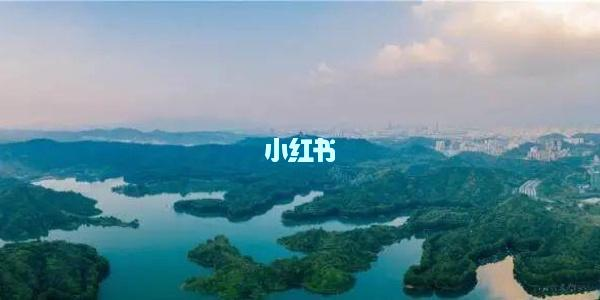mountain: (389, 160, 599, 282), (256, 144, 511, 222), (35, 135, 370, 183)
sea_river: (93, 223, 202, 291), (99, 191, 184, 221), (378, 248, 407, 295)
sky_cloud: (5, 22, 599, 129)
